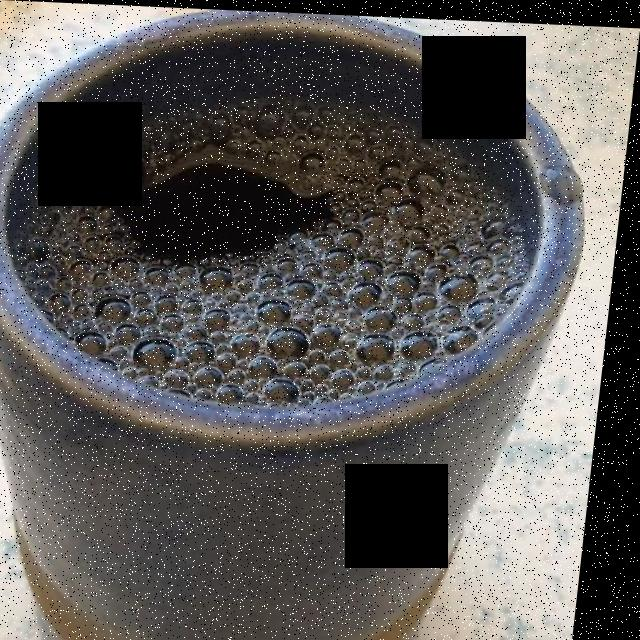tea: (20, 93, 536, 402)
